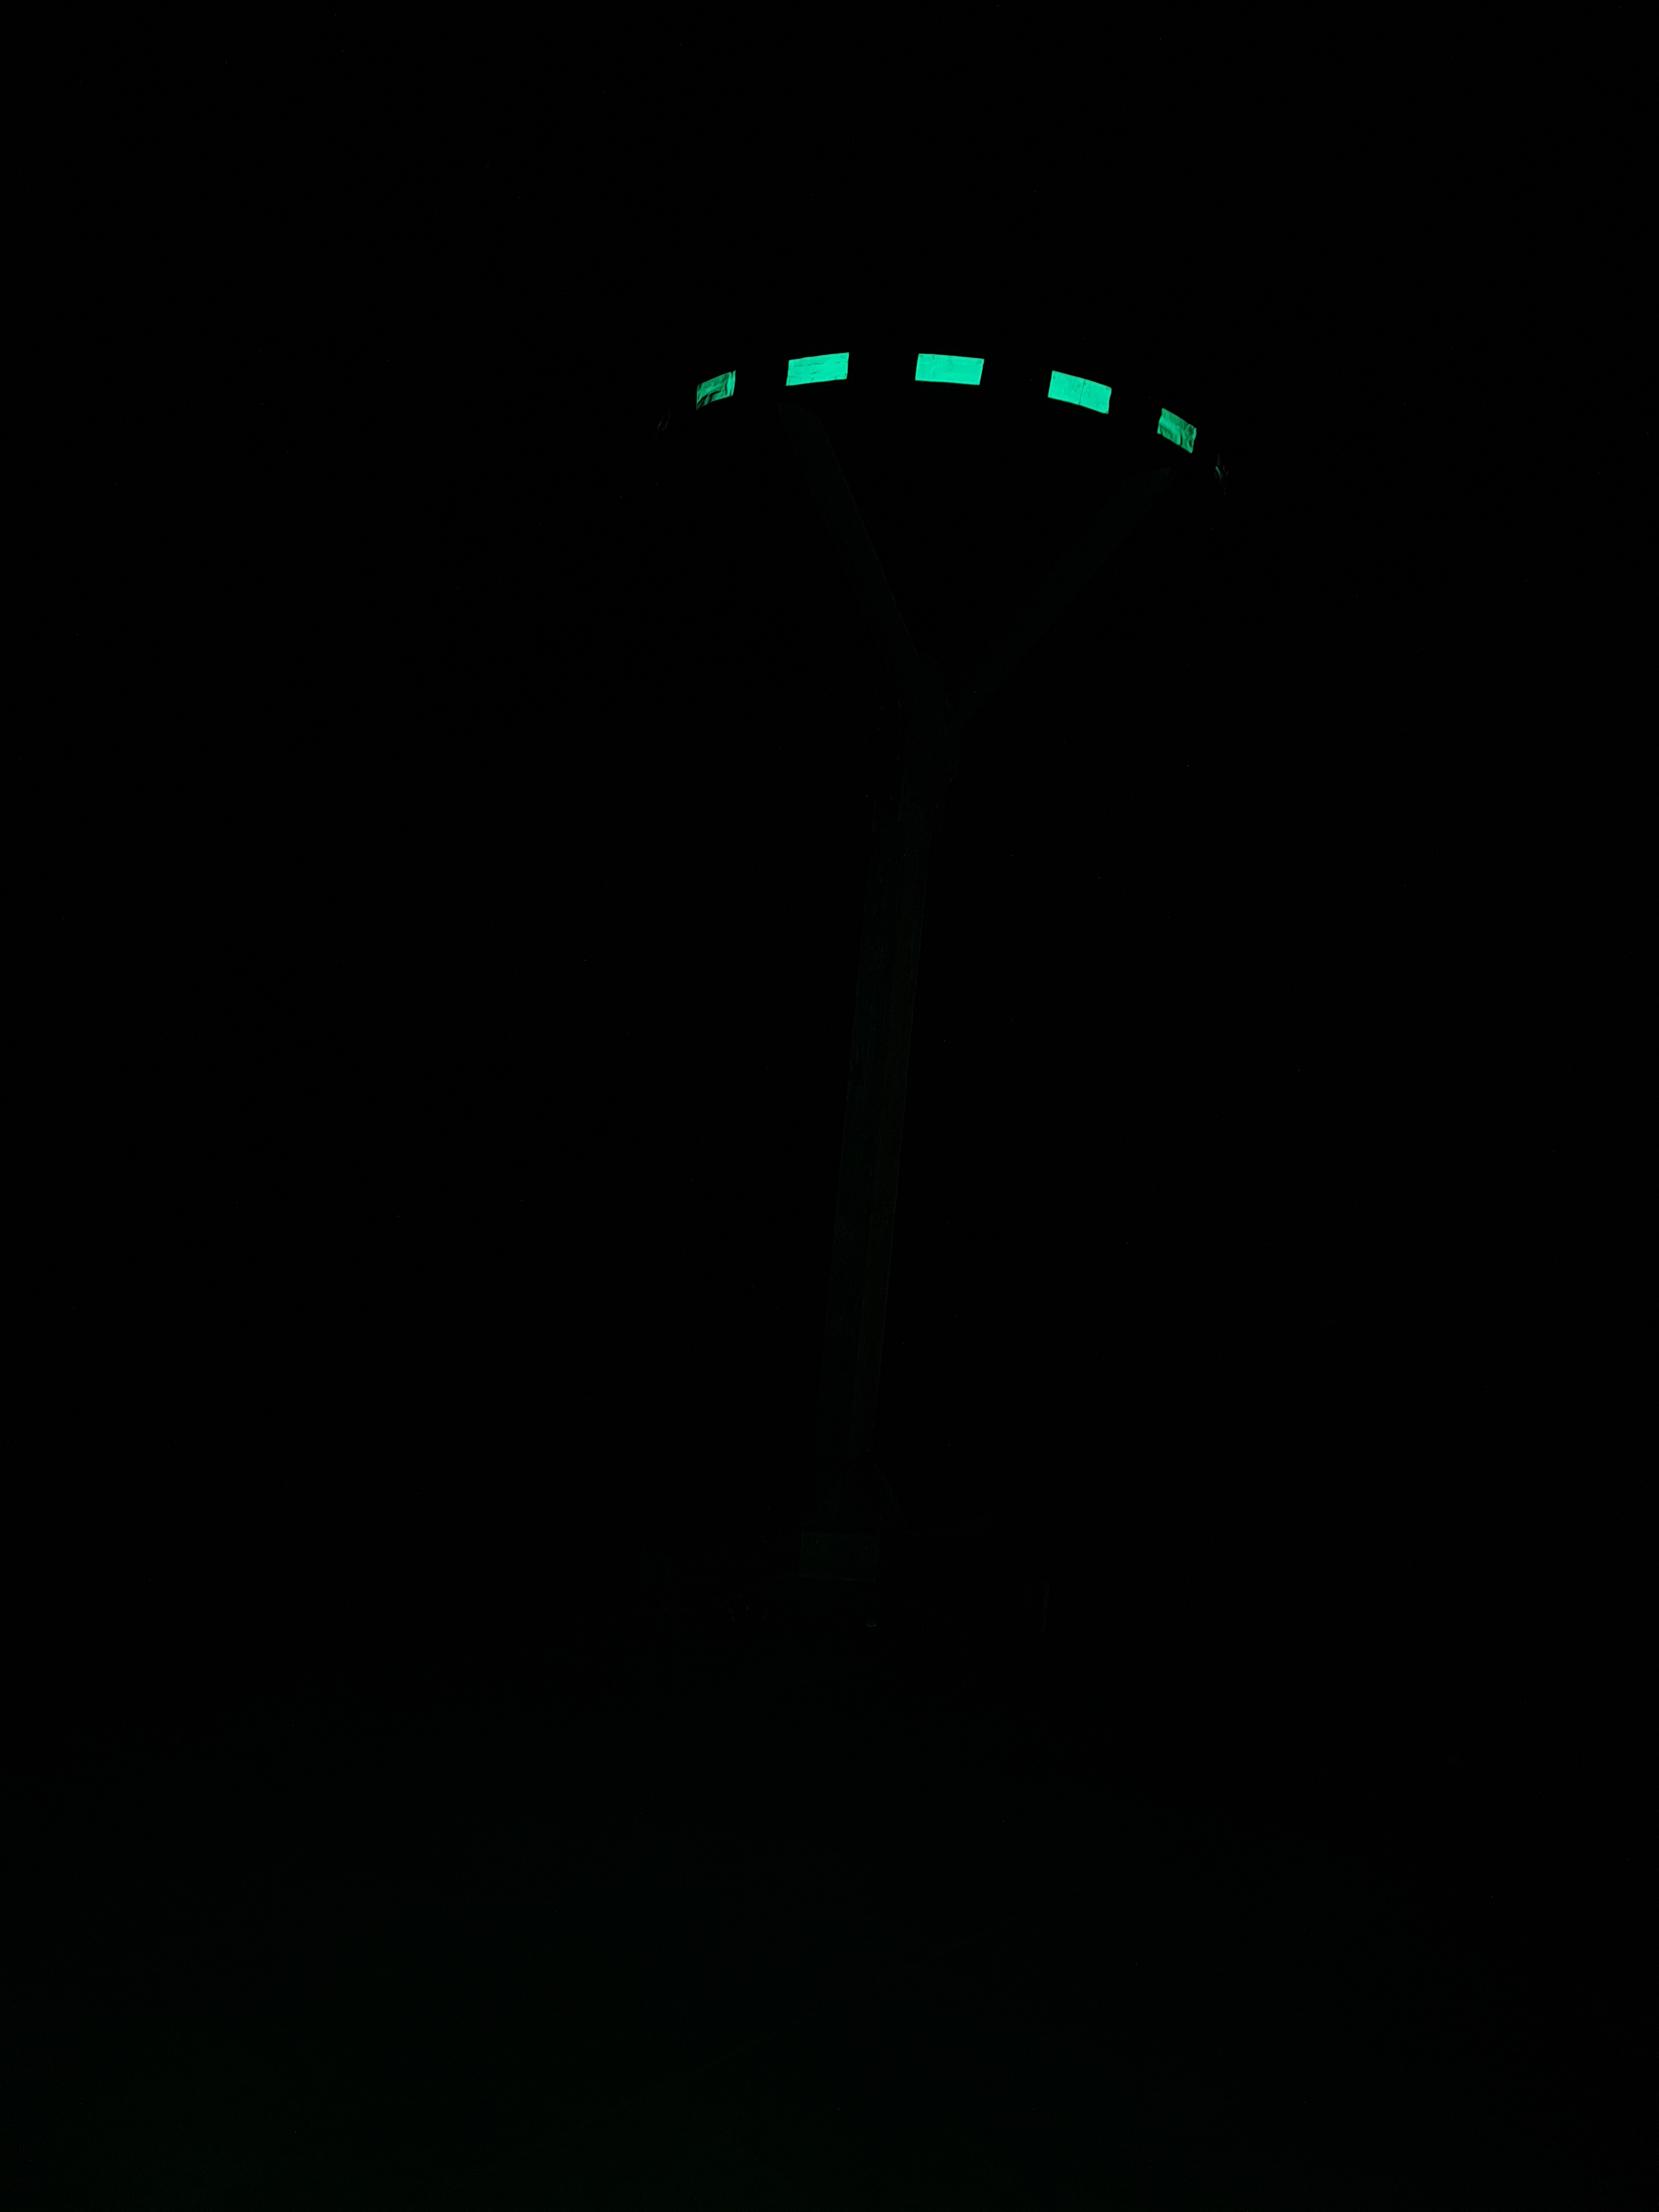hoop: (695, 347, 1199, 456)
